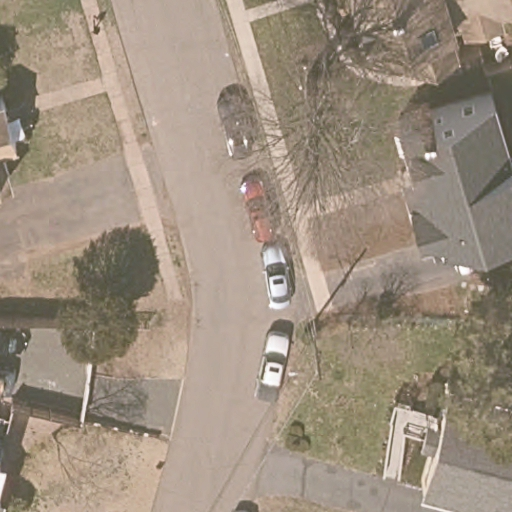DT: (303, 322, 326, 380)
